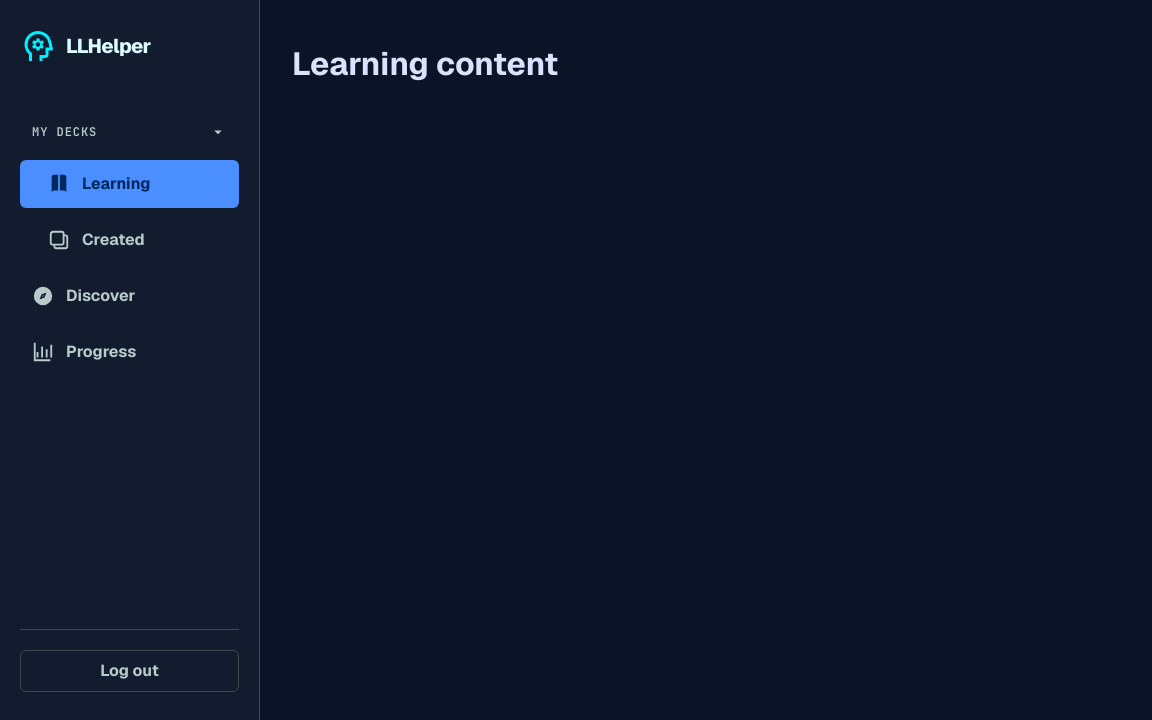
AppShell › moves focus to main content after client-side navigation
Click the link "Created": [96, 240] box [48,229,145,251]
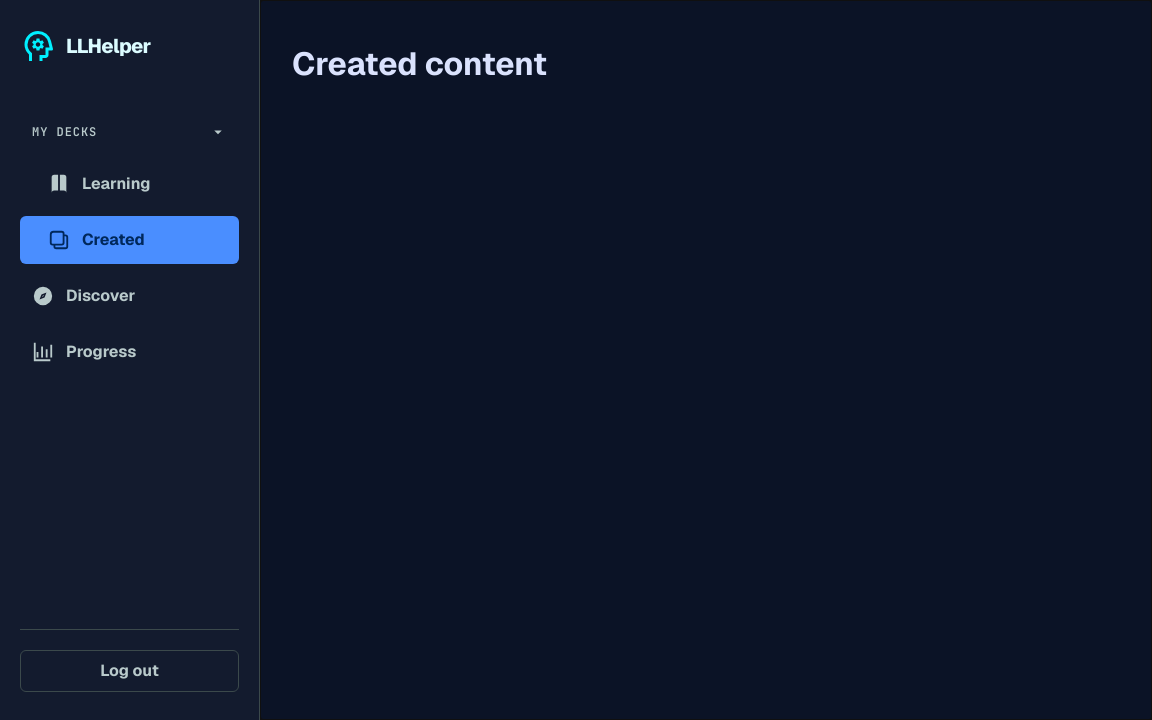
Expected: the heading "Created content" is shown, [292,43,547,84]
